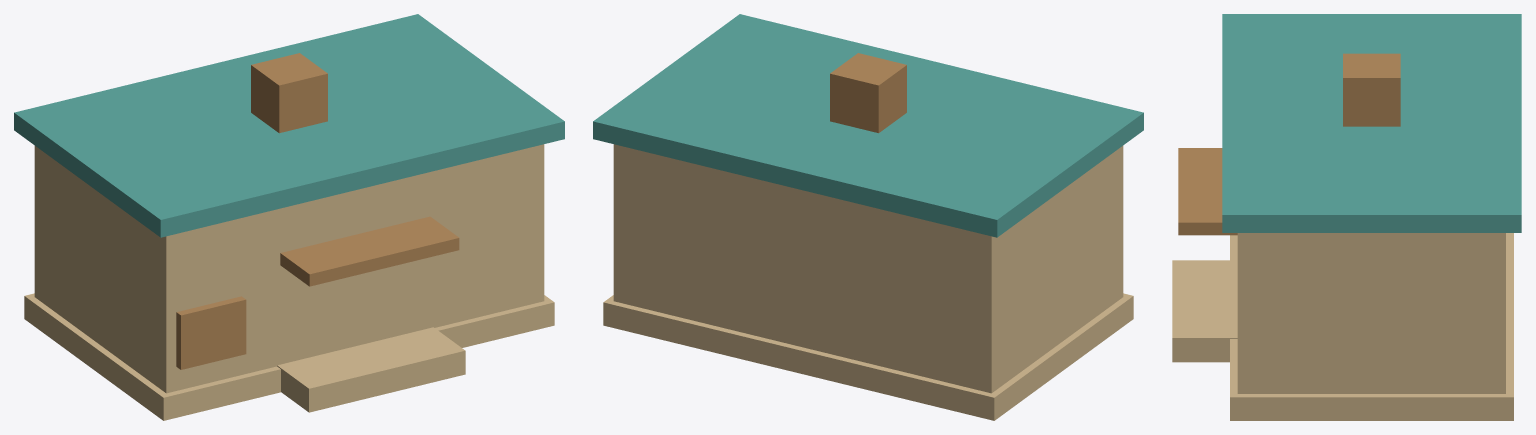
The model's file is community-hall.source.glb.
The picture shows the model from 3 angles, left to right: view 1: azimuth 30°, elevation 25°; view 2: azimuth 150°, elevation 25°; view 3: azimuth 270°, elevation 25°; orthographic projection.
Visible parts, largest first — view 1: community-hall-hall-mesh, community-hall-roof-mesh, community-hall-plinth-mesh, community-hall-steps-mesh, community-hall-entry-canopy-mesh, community-hall-cupola-mesh, community-hall-notice-frame-mesh; view 2: community-hall-hall-mesh, community-hall-roof-mesh, community-hall-plinth-mesh, community-hall-cupola-mesh; view 3: community-hall-roof-mesh, community-hall-hall-mesh, community-hall-plinth-mesh, community-hall-steps-mesh, community-hall-cupola-mesh, community-hall-entry-canopy-mesh.
Boxes of the visible parts, left/top/right/bottom form: community-hall-hall-mesh: left=34, top=144, right=544, bottom=393; community-hall-roof-mesh: left=14, top=14, right=564, bottom=237; community-hall-plinth-mesh: left=24, top=293, right=554, bottom=420; community-hall-steps-mesh: left=277, top=327, right=465, bottom=412; community-hall-entry-canopy-mesh: left=280, top=216, right=459, bottom=286; community-hall-cupola-mesh: left=251, top=53, right=327, bottom=133; community-hall-notice-frame-mesh: left=176, top=296, right=246, bottom=369; community-hall-hall-mesh: left=613, top=144, right=1123, bottom=393; community-hall-roof-mesh: left=593, top=14, right=1143, bottom=237; community-hall-plinth-mesh: left=603, top=293, right=1133, bottom=420; community-hall-cupola-mesh: left=830, top=53, right=906, bottom=133; community-hall-roof-mesh: left=1222, top=14, right=1521, bottom=232; community-hall-hall-mesh: left=1237, top=233, right=1505, bottom=393; community-hall-plinth-mesh: left=1230, top=233, right=1513, bottom=420; community-hall-steps-mesh: left=1172, top=260, right=1237, bottom=362; community-hall-cupola-mesh: left=1343, top=53, right=1400, bottom=126; community-hall-entry-canopy-mesh: left=1178, top=148, right=1237, bottom=235.
Size of the model in its own units: 6.2 by 3.71 by 4.55.
